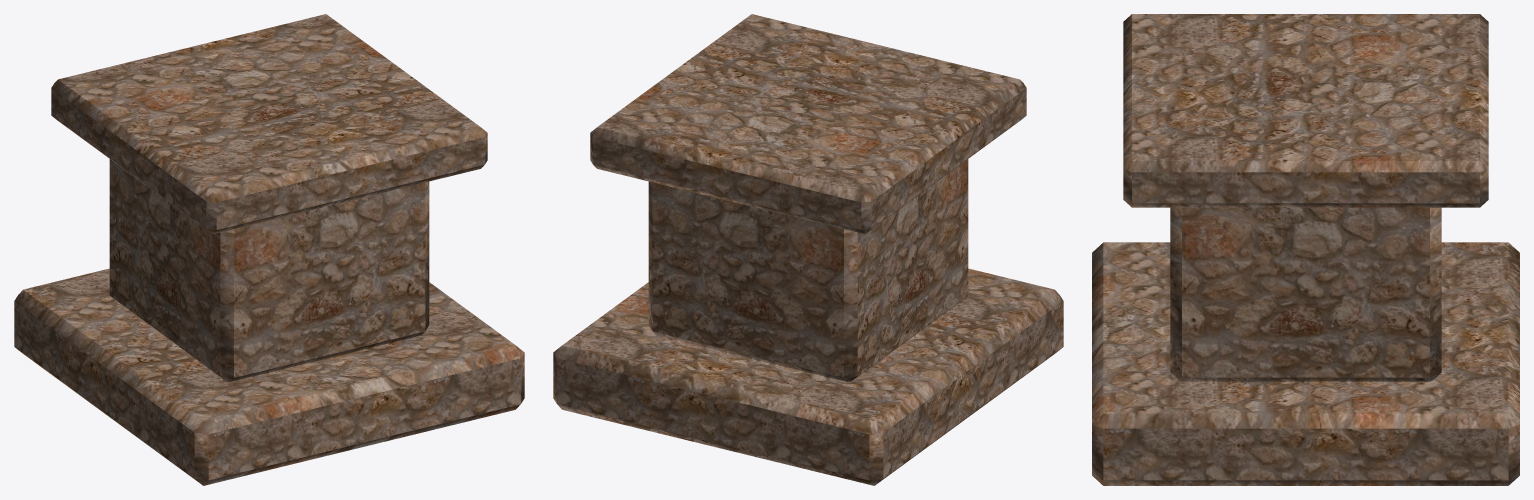
Rendered from prop_altar_pedestal.glb.
3 views of the same model, side by side, from view 1: azimuth 30°, elevation 25°; view 2: azimuth 150°, elevation 25°; view 3: azimuth 270°, elevation 25° (orthographic). The views are drawn at different scales.
Parts seen in each view (by area): view 1: PROP_AltarPedestal; view 2: PROP_AltarPedestal; view 3: PROP_AltarPedestal.
Part boxes in pixels (bbox=[...]): PROP_AltarPedestal: bbox=[14, 14, 524, 485]; PROP_AltarPedestal: bbox=[553, 14, 1063, 485]; PROP_AltarPedestal: bbox=[1092, 14, 1519, 485].
Bounding box in the file's own units: 1.5 × 1.21 × 1.5.
Materials: 1 (1 with a texture image).
